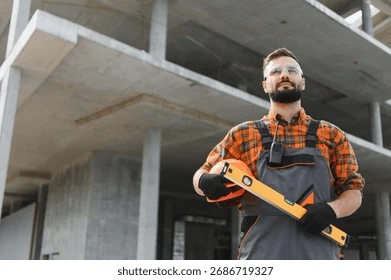safety_goggles: (252, 62, 314, 83)
